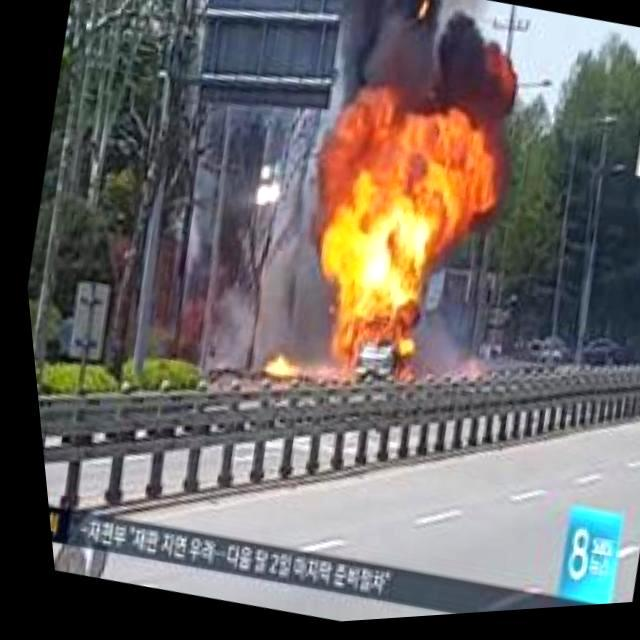fire: (280, 110, 464, 390), (245, 350, 287, 390)
